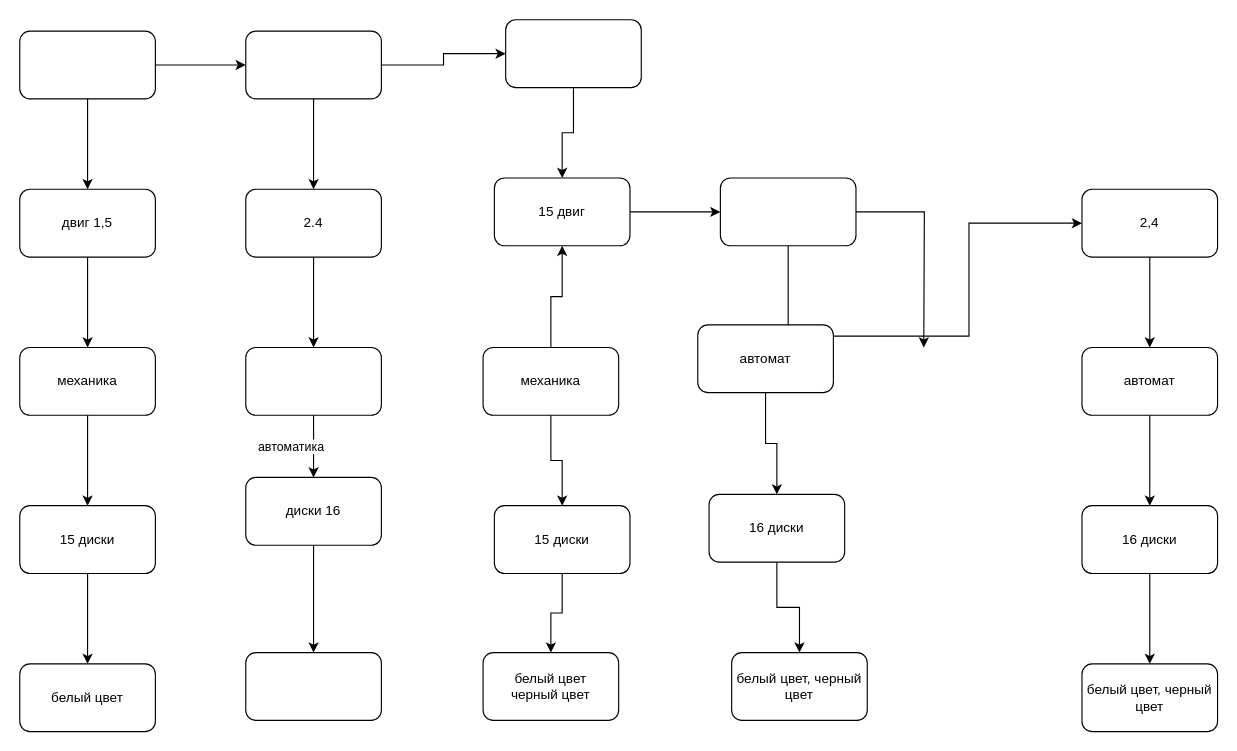
The diagram is 1237 pixels wide and 751 high, and some of its shapes have lost their labels. The shapes that lost their labels are listed below. From the top down, each one's centre as x and y in pixels, then its label:
At [87,64]: "basic?".
At [313,64]: "prime".
At [573,53]: "классик".
At [787,211]: "20 двиг".
At [313,380]: "коробка".
At [313,685]: "черный белый красный".
